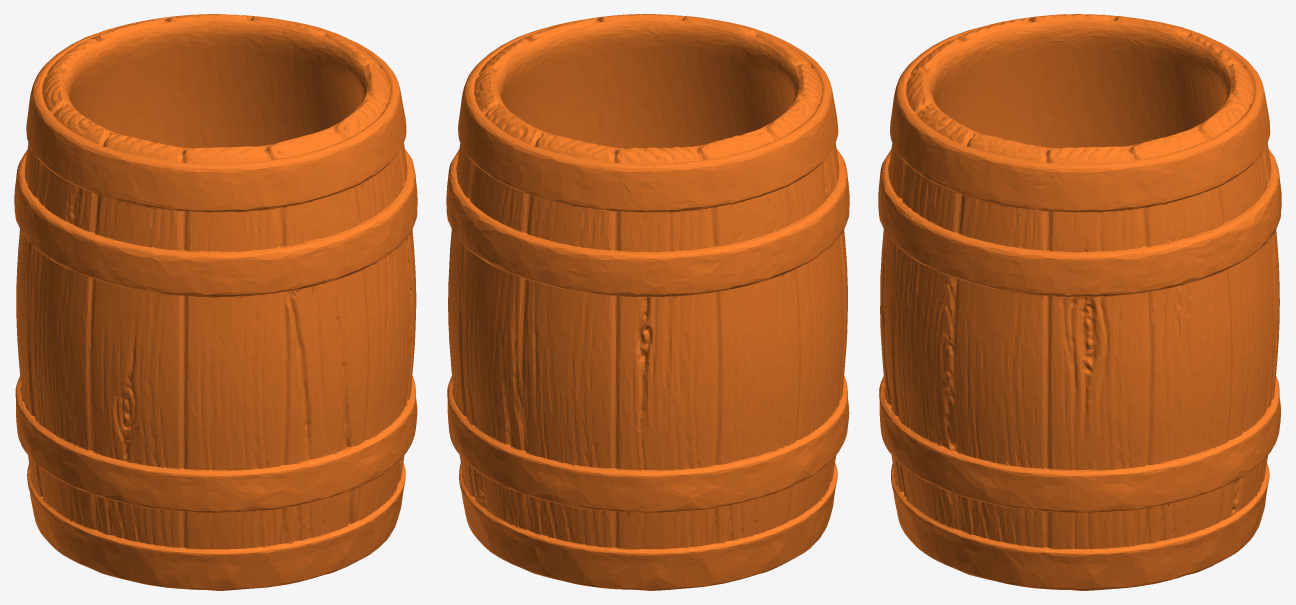
File: Barril.glb
3 views of the same model, side by side, from view 1: azimuth 30°, elevation 25°; view 2: azimuth 150°, elevation 25°; view 3: azimuth 270°, elevation 25° (orthographic).
Bounding box in the file's own units: 0.0846 × 0.1021 × 0.0846.
